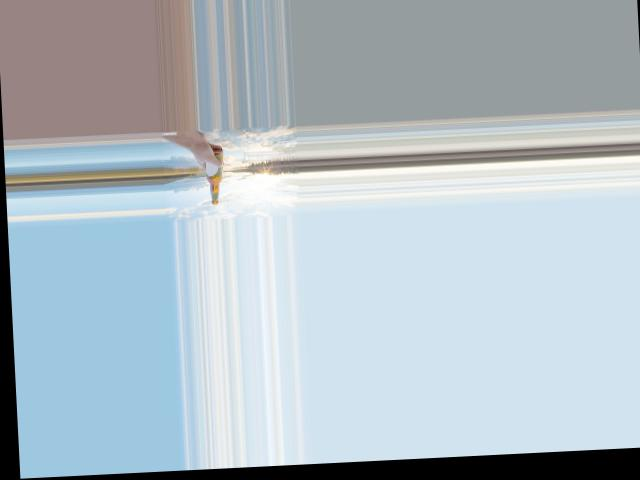beer: (204, 147, 226, 204)
